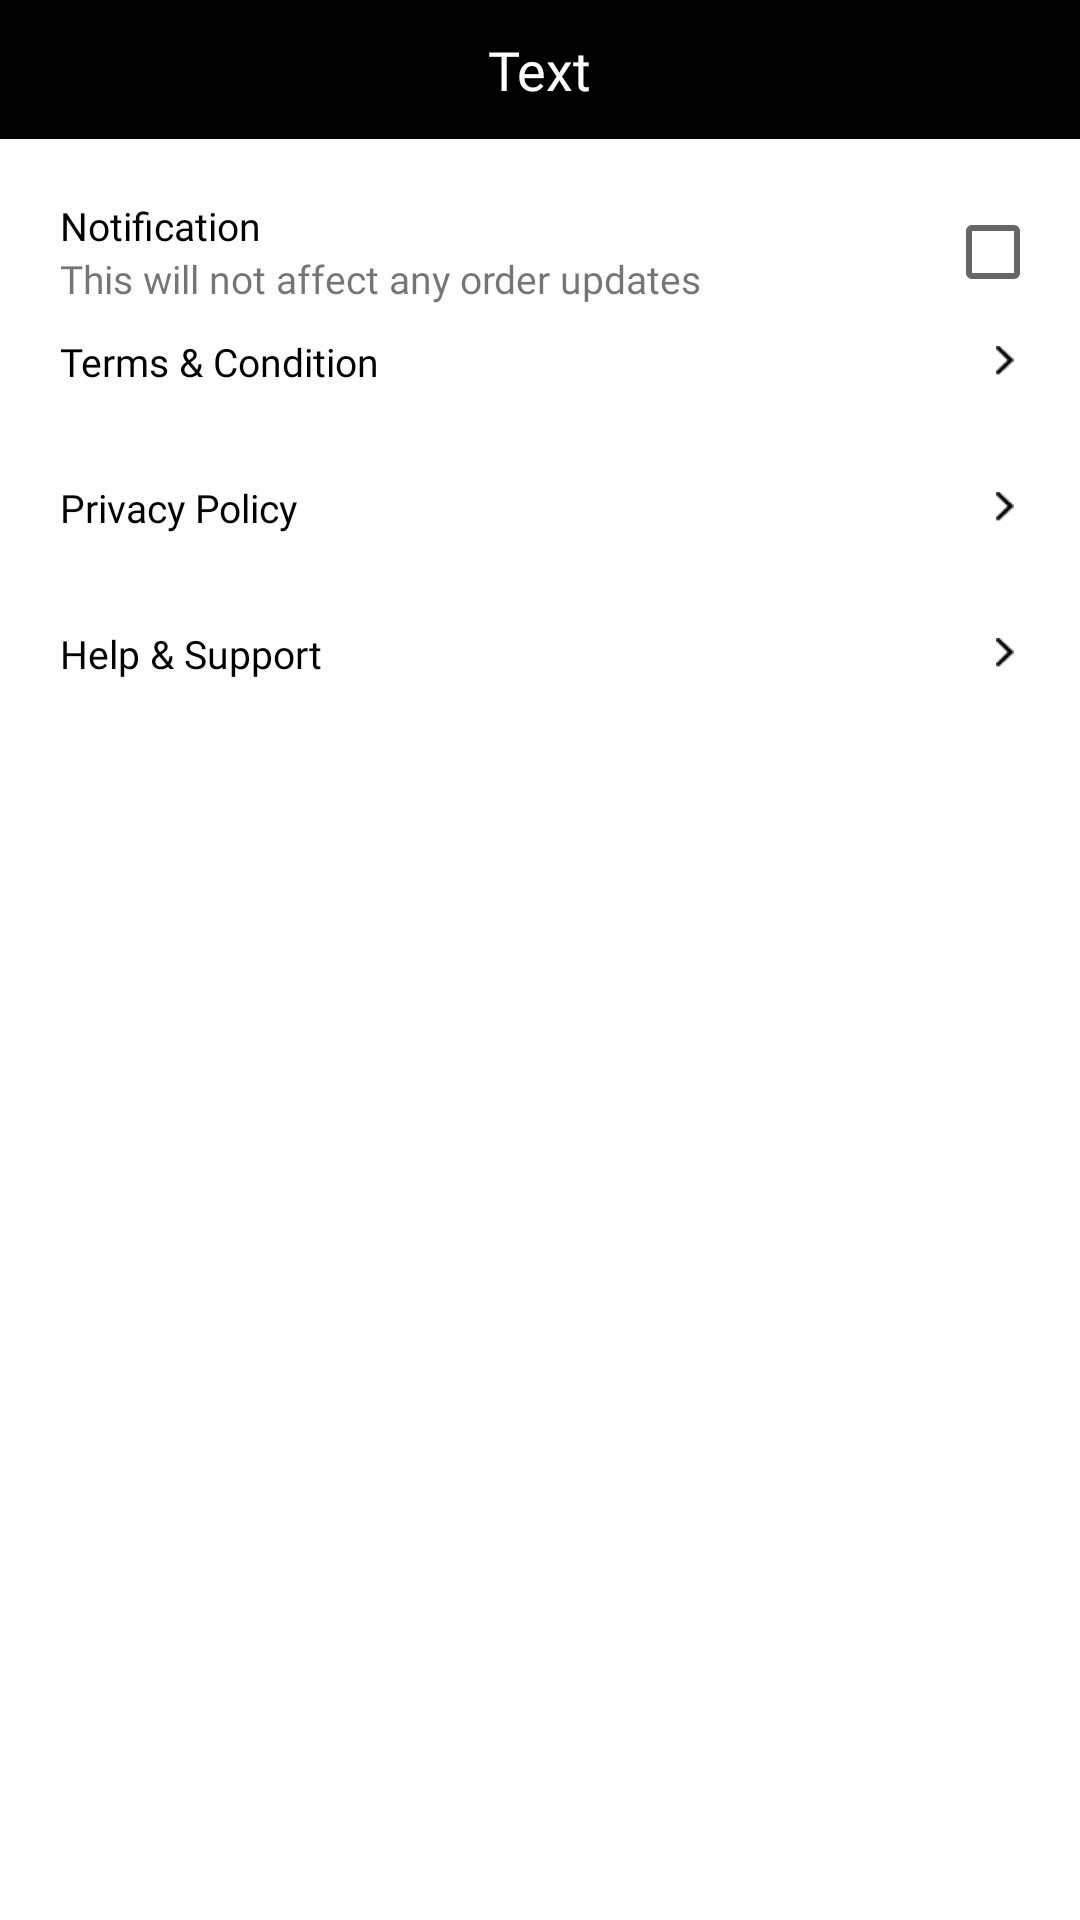

Screen size 1080 x 1920. Icon name, then its box in pixels as (x1, y1, x2, y2):
right arrow: (996, 346, 1014, 375), (996, 492, 1014, 521), (996, 638, 1014, 667)
